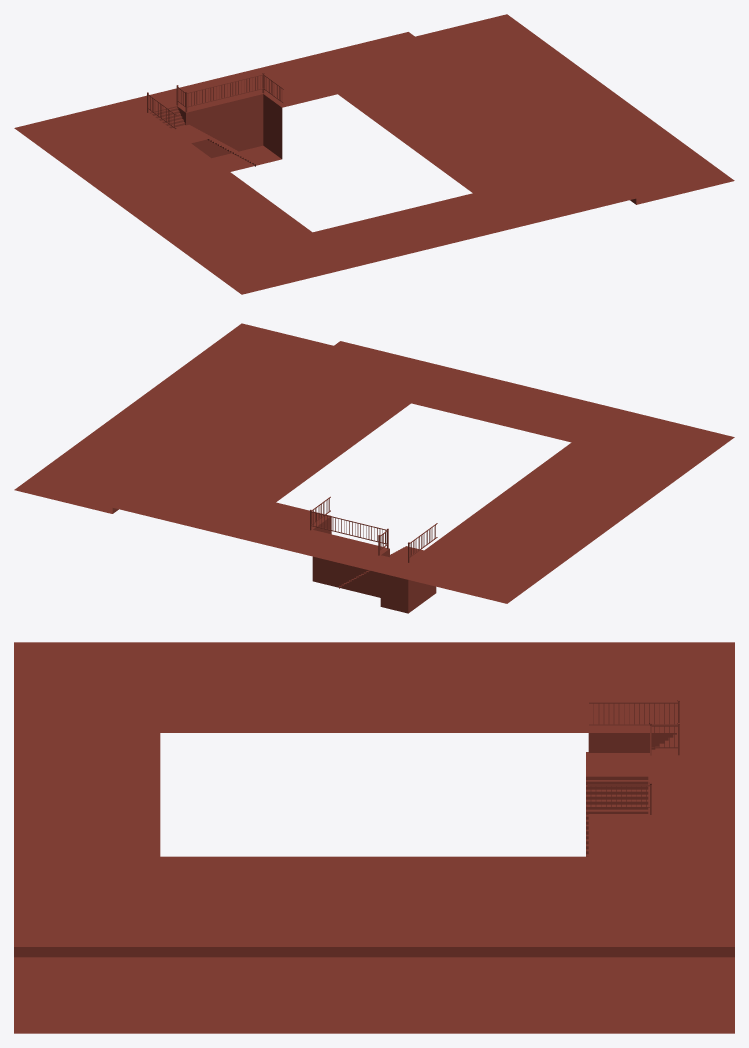
File: House01_Ground.fbx
3 views of the same model, one above another, from view 1: azimuth 30°, elevation 25°; view 2: azimuth 150°, elevation 25°; view 3: azimuth 270°, elevation 25° (orthographic). The views are drawn at different scales.
Parts seen in each view (by area): view 1: Ground; view 2: Ground; view 3: Ground.
Boxes of the visible parts, x1,y1,x2,y2 form: Ground: [14, 14, 734, 294]; Ground: [14, 323, 734, 613]; Ground: [14, 642, 734, 1033].
Bounding box in the file's own units: 2000 × 280 × 1600.
